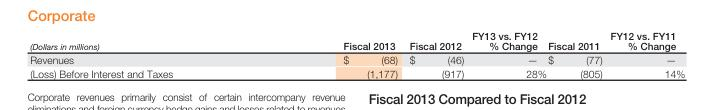table: (29, 29, 684, 78)
table column: (29, 29, 257, 78), (257, 29, 402, 78), (467, 29, 546, 78), (605, 29, 684, 78), (402, 29, 467, 78), (546, 29, 605, 78)
table column header: (29, 29, 684, 52)
table row: (29, 29, 684, 52), (29, 52, 684, 65), (29, 65, 684, 78)
